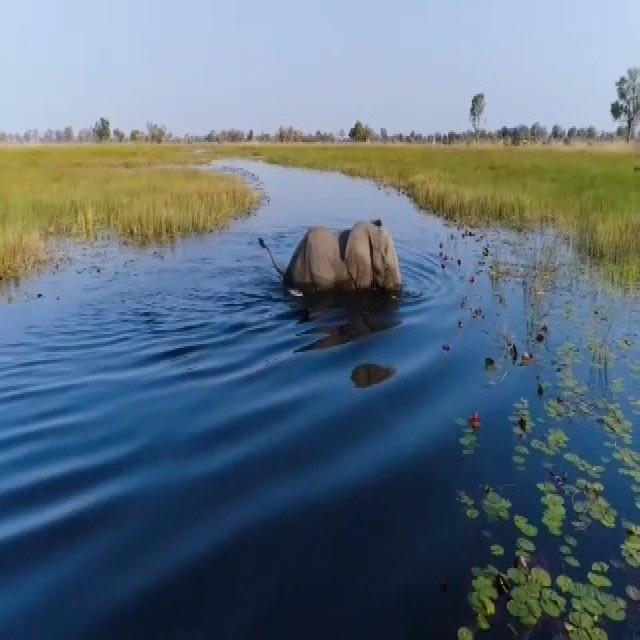Elephant: (256, 208, 418, 303)
